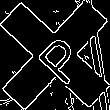P_NW: (24, 25, 86, 85)
